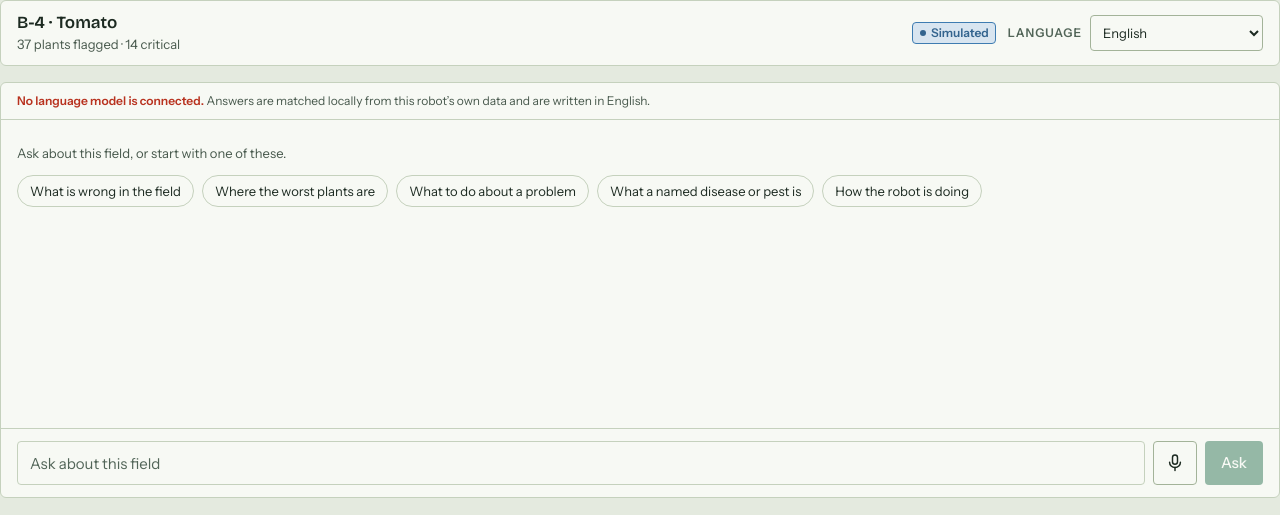
Test case: ChatWorkspace › answers a question with the field’s own numbers
In the field labelled "Ask about this field": (581, 463) [17,441,1145,485], type "what is wrong"
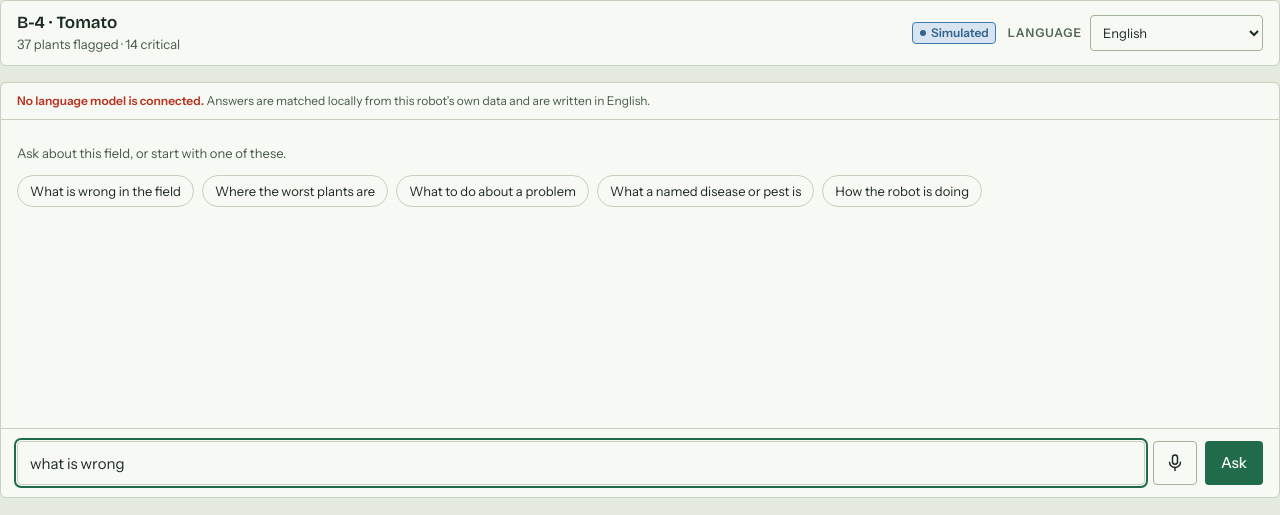
Click the button "Ask": (1234, 463) [1205,441,1263,485]
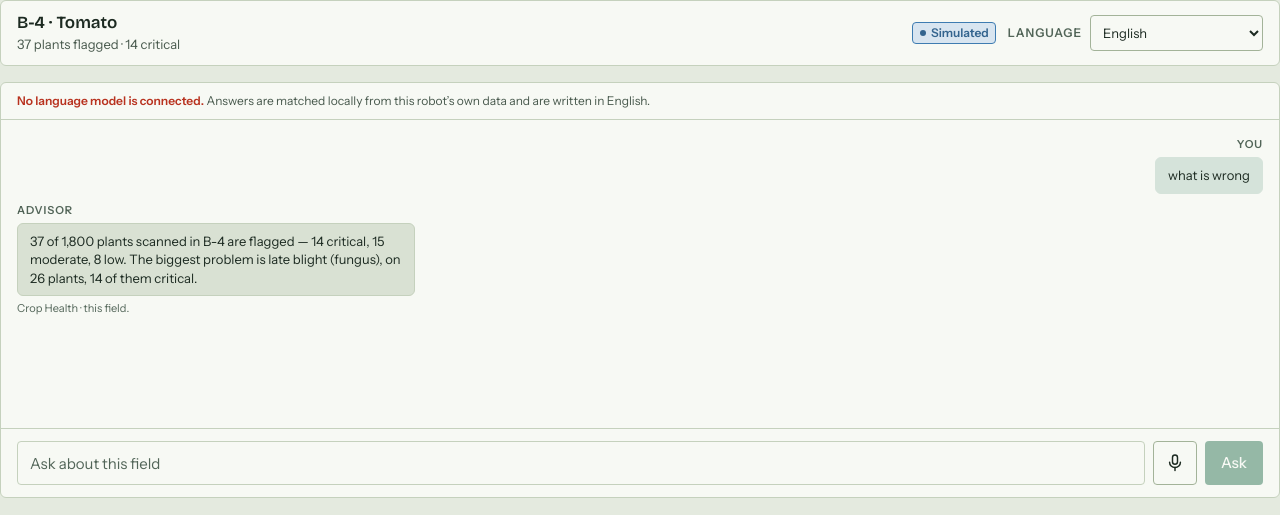
Now the text "37 of 1,800 plants scanned" is shown, box [30,233,401,286]
